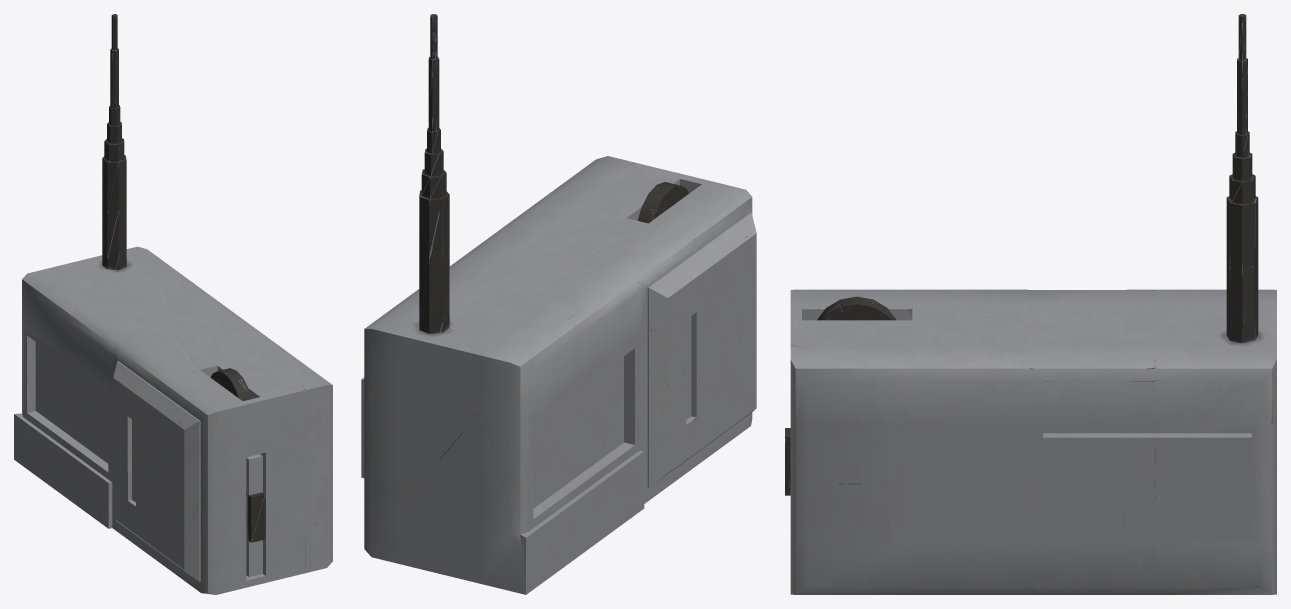
The model's file is Radio.glb.
The picture shows the model from 3 angles, left to right: view 1: azimuth 30°, elevation 25°; view 2: azimuth 150°, elevation 25°; view 3: azimuth 270°, elevation 25°; orthographic projection. The views are drawn at different scales.
Parts seen in each view (by area): view 1: Cube.001; view 2: Cube.001; view 3: Cube.001.
Part boxes in pixels (bbox=[...]): Cube.001: bbox=[14, 14, 332, 594]; Cube.001: bbox=[361, 14, 756, 594]; Cube.001: bbox=[785, 14, 1276, 594].
Bounding box in the file's own units: 1.18 × 3.28 × 2.63.
Materials: 1 (1 with a texture image).
